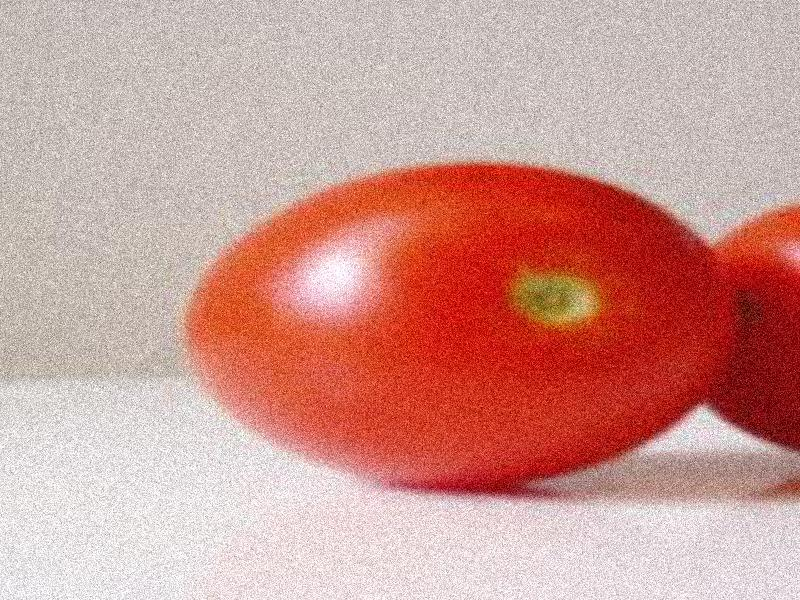Tomato: (184, 163, 729, 485)
